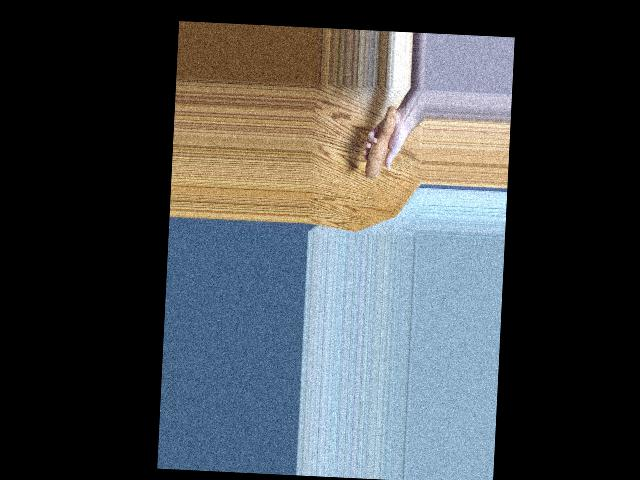sweet_potato: (362, 97, 397, 180)
